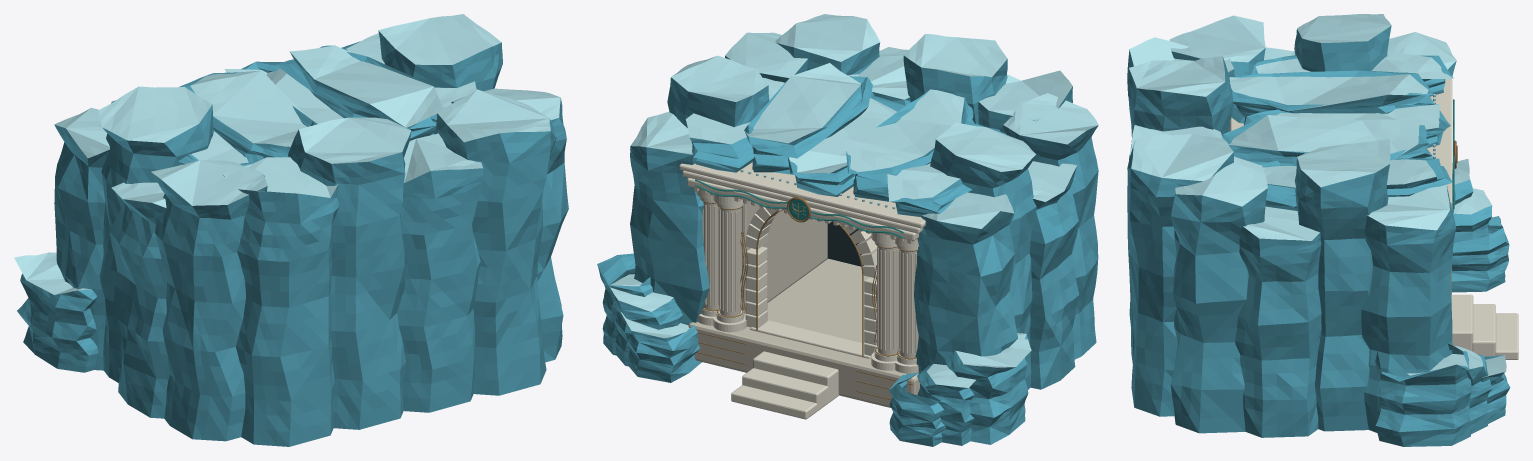
The model's file is glacier-temple.glb.
3 renders of one model, left to right at view 1: azimuth 30°, elevation 25°; view 2: azimuth 150°, elevation 25°; view 3: azimuth 270°, elevation 25°, orthographic. The views are drawn at different scales.
Visible parts, largest first — view 1: Glacier deep blue ice 2, Glacier pale frost 3; view 2: Glacier deep blue ice 2, Glacier pale frost 3, Glacier temple worn edges 0, Glacier temple limestone 1, Glacier temple bronze 4, Glacier temple turquoise 5, Glacier temple recess 6; view 3: Glacier deep blue ice 2, Glacier pale frost 3, Glacier temple worn edges 0.
Boxes of the visible parts, bbox=[...] form: Glacier deep blue ice 2: bbox=[17, 30, 568, 446]; Glacier pale frost 3: bbox=[14, 14, 560, 294]; Glacier deep blue ice 2: bbox=[597, 42, 1098, 446]; Glacier pale frost 3: bbox=[609, 14, 1098, 387]; Glacier temple worn edges 0: bbox=[679, 162, 925, 419]; Glacier temple limestone 1: bbox=[688, 187, 920, 407]; Glacier temple bronze 4: bbox=[696, 197, 917, 399]; Glacier temple turquoise 5: bbox=[695, 179, 903, 238]; Glacier temple recess 6: bbox=[827, 221, 870, 266]; Glacier deep blue ice 2: bbox=[1127, 25, 1510, 446]; Glacier pale frost 3: bbox=[1129, 14, 1506, 377]; Glacier temple worn edges 0: bbox=[1230, 79, 1518, 359].
Bounding box in the file's own units: 13.2 × 7.61 × 10.3.
